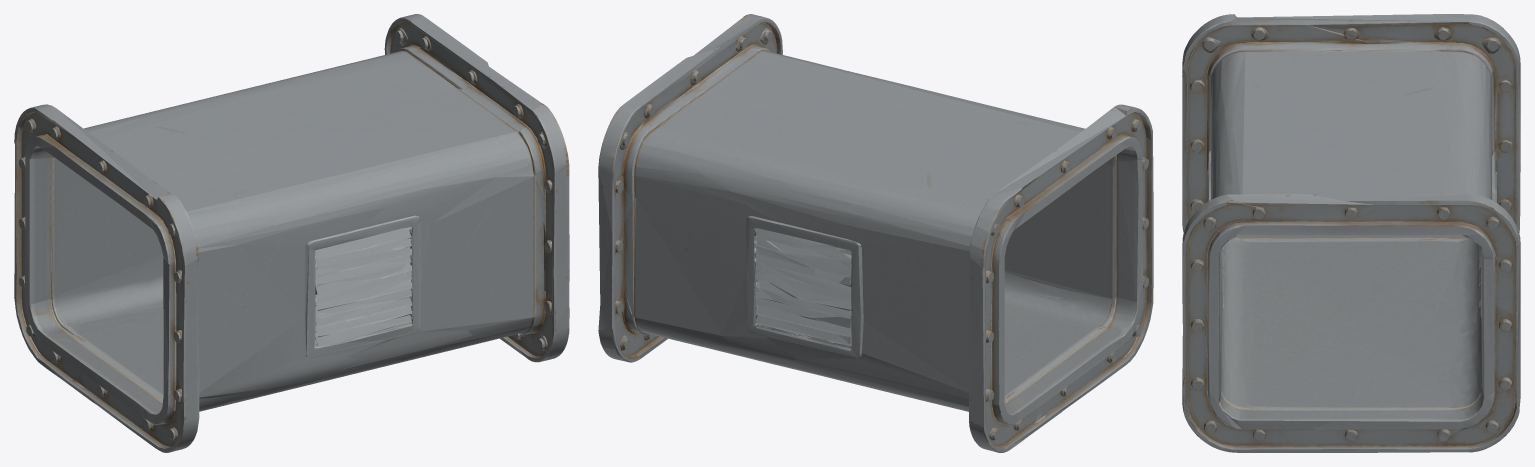
Rendered from condotto_aria.glb.
3 views of the same model, side by side, from view 1: azimuth 30°, elevation 25°; view 2: azimuth 150°, elevation 25°; view 3: azimuth 270°, elevation 25° (orthographic).
Visible parts, largest first — view 1: Mesh_0; view 2: Mesh_0; view 3: Mesh_0.
Boxes of the visible parts, x1,y1,x2,y2 form: Mesh_0: (14, 14, 569, 452); Mesh_0: (598, 14, 1153, 452); Mesh_0: (1182, 14, 1520, 452).
Size of the model in its own units: 1.9 by 1.18 by 1.43.
Materials: 1 (1 with a texture image).
